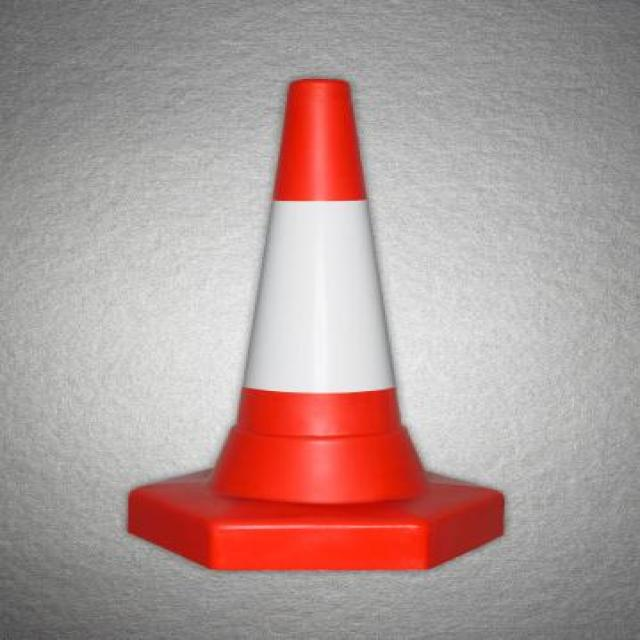Cone: (125, 78, 504, 581)
